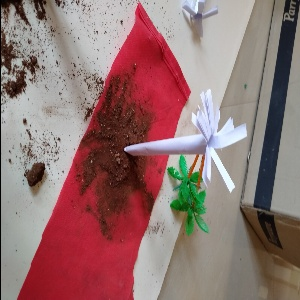plant: (165, 155, 221, 235)
weed: (111, 89, 255, 181)
